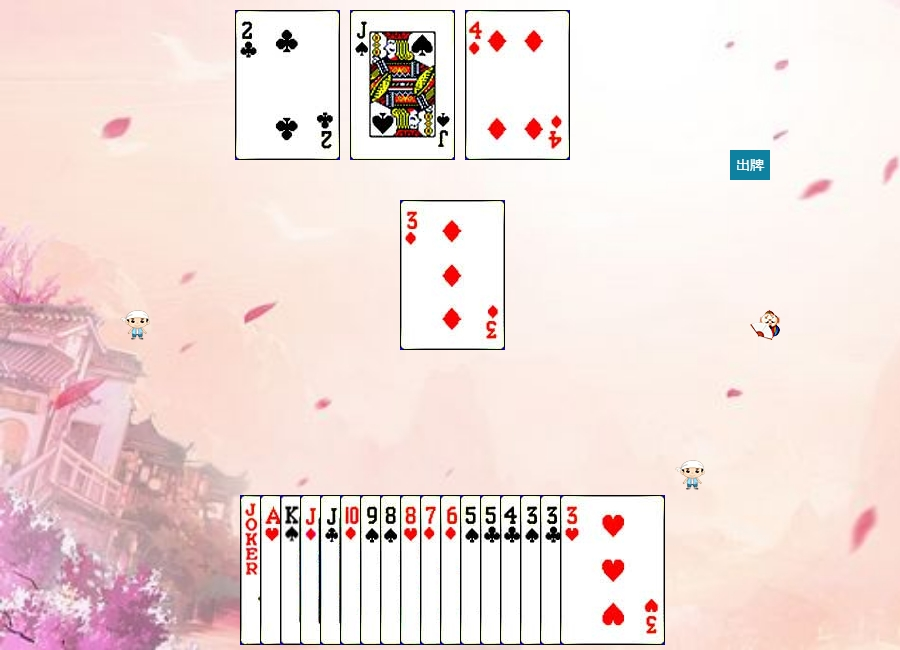10~1: (340, 495, 445, 645)
11~1: (300, 495, 405, 645)
11~2: (320, 495, 425, 645)
11~4: (350, 10, 455, 160)
13~4: (280, 495, 385, 645)
14~3: (260, 495, 365, 645)
15~2: (235, 10, 340, 160)
18~4: (240, 495, 345, 645)
3~1: (400, 200, 505, 350)
3~2: (540, 495, 645, 645)
3~3: (560, 495, 665, 645)
3~4: (520, 495, 625, 645)
4~1: (465, 10, 570, 160)
4~2: (500, 495, 605, 645)
5~2: (480, 495, 585, 645)
5~4: (460, 495, 565, 645)
6~1: (440, 495, 545, 645)
7~1: (420, 495, 525, 645)
8~3: (400, 495, 505, 645)
8~4: (380, 495, 485, 645)
9~4: (360, 495, 465, 645)
